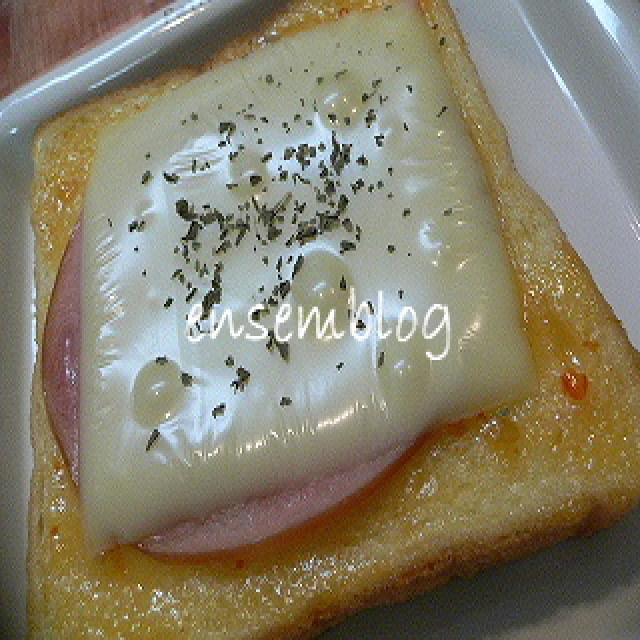面包点心: (32, 0, 628, 640)
